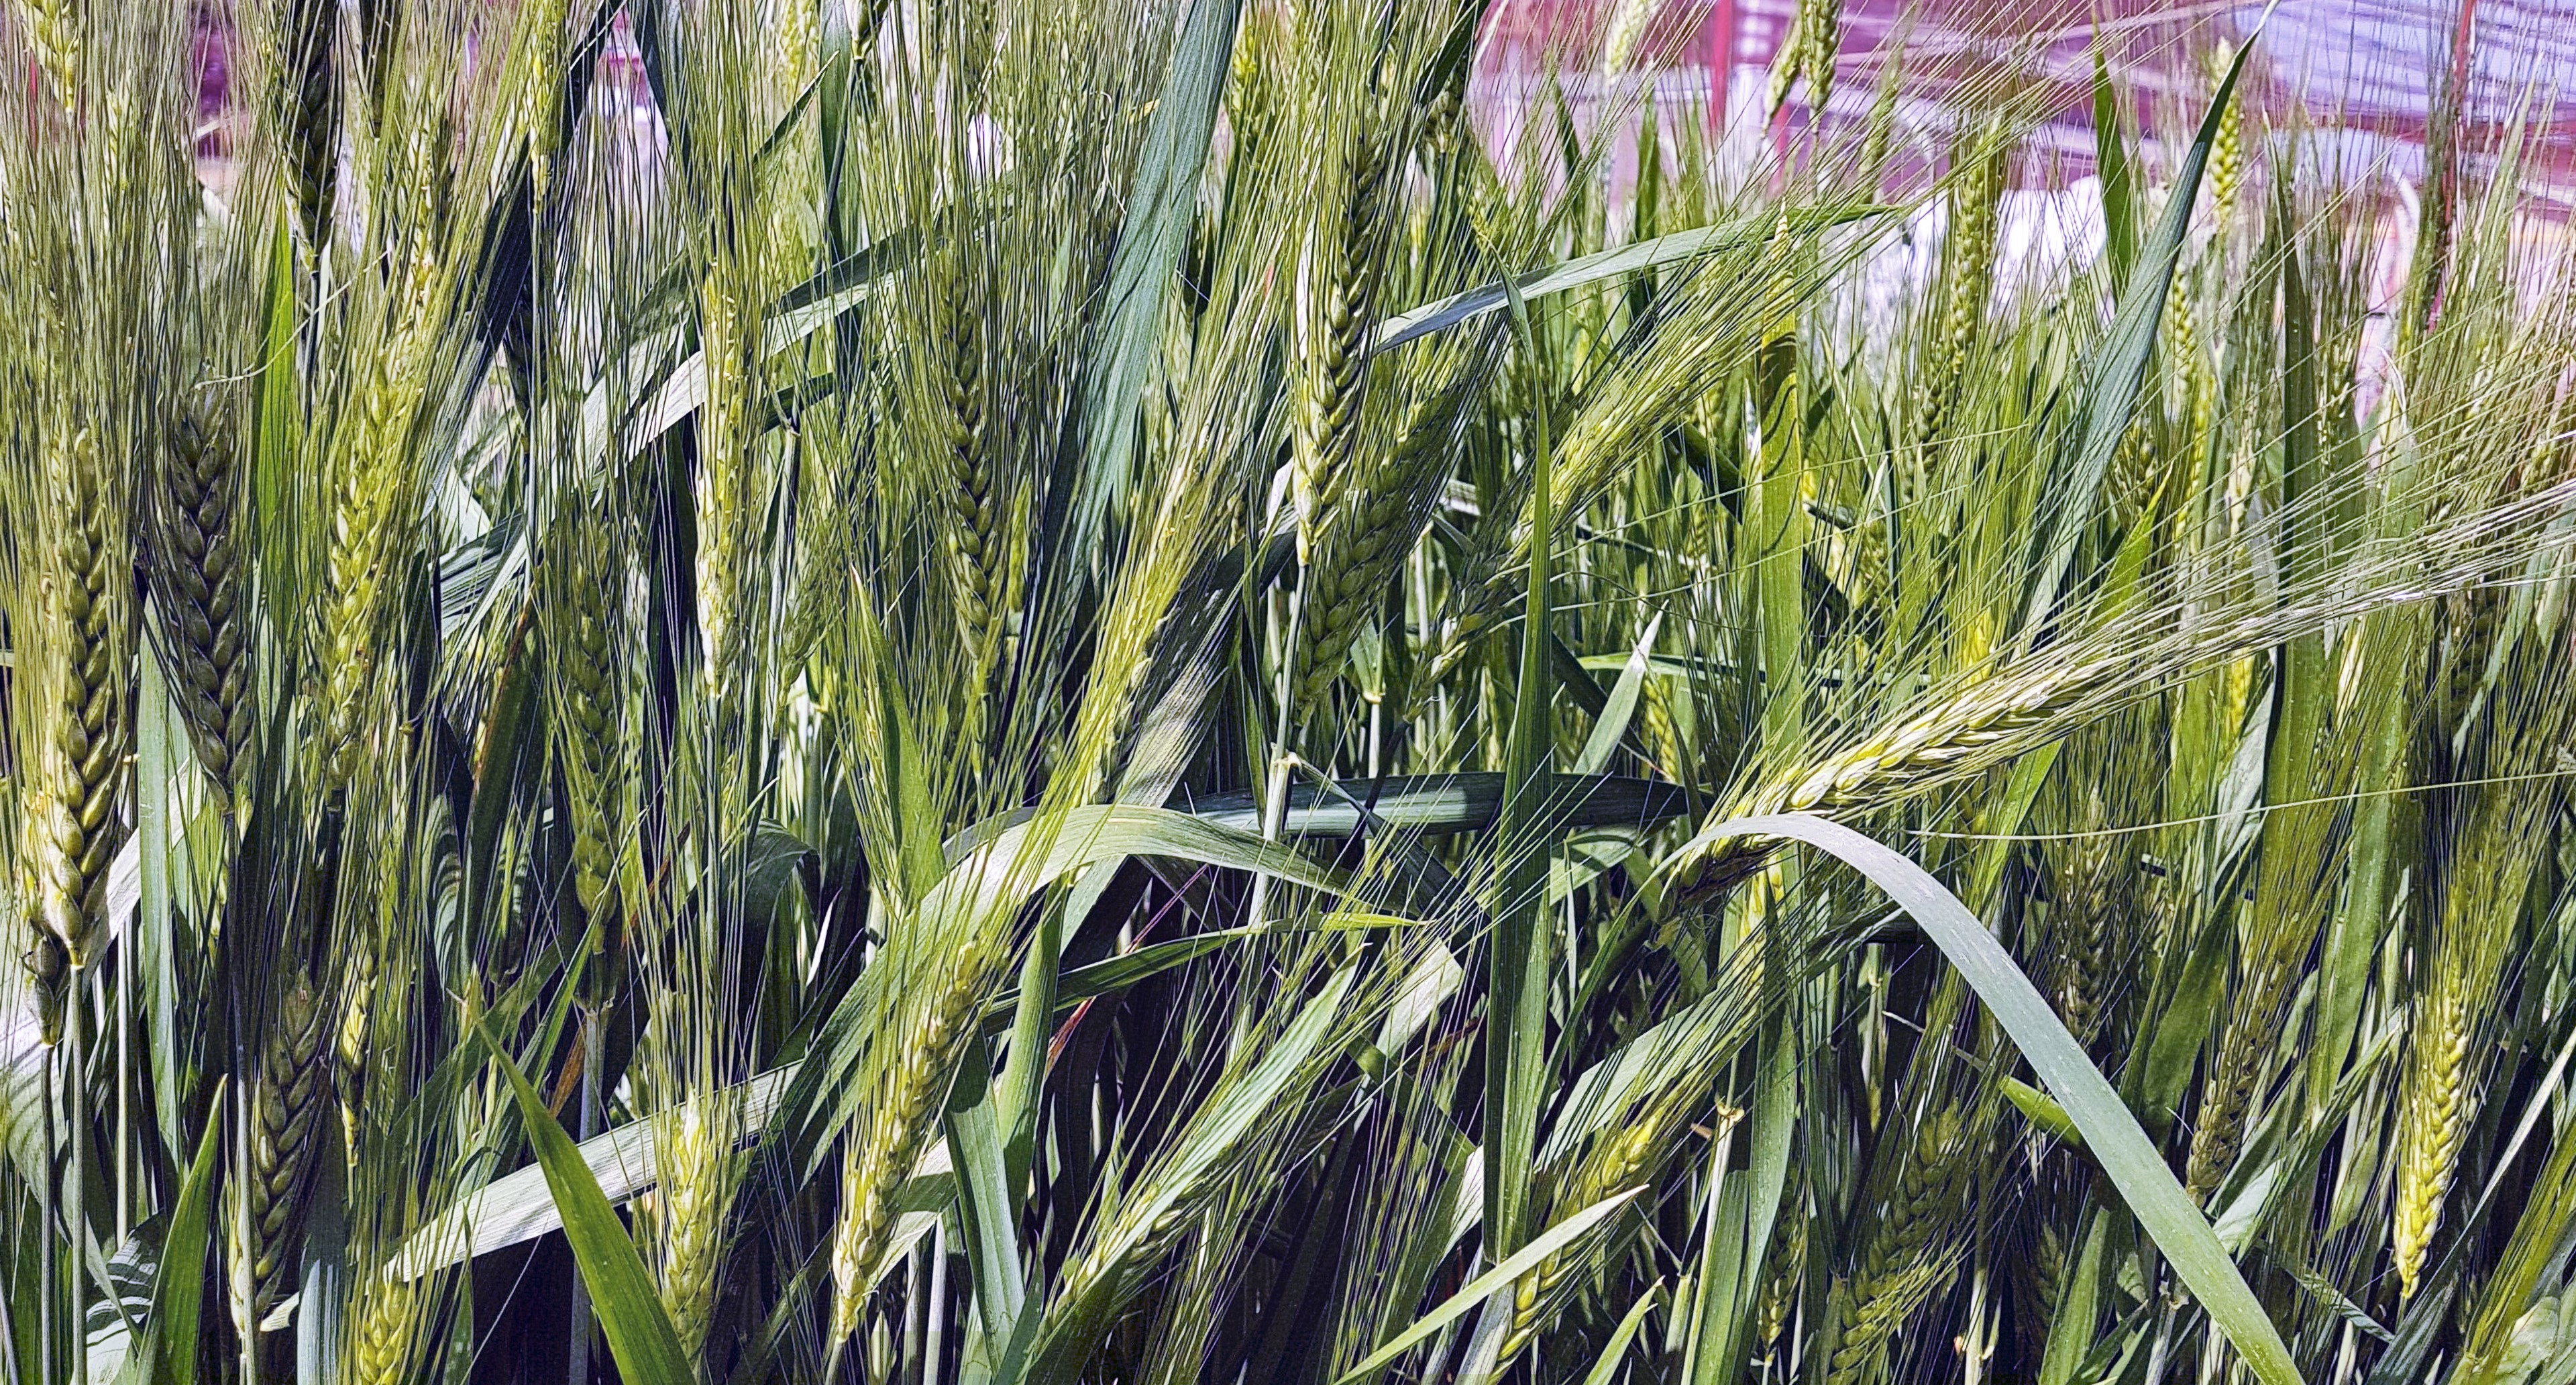Healthy Wheat: (1272, 96, 1427, 563), (147, 339, 274, 783), (2371, 947, 2527, 1289)
